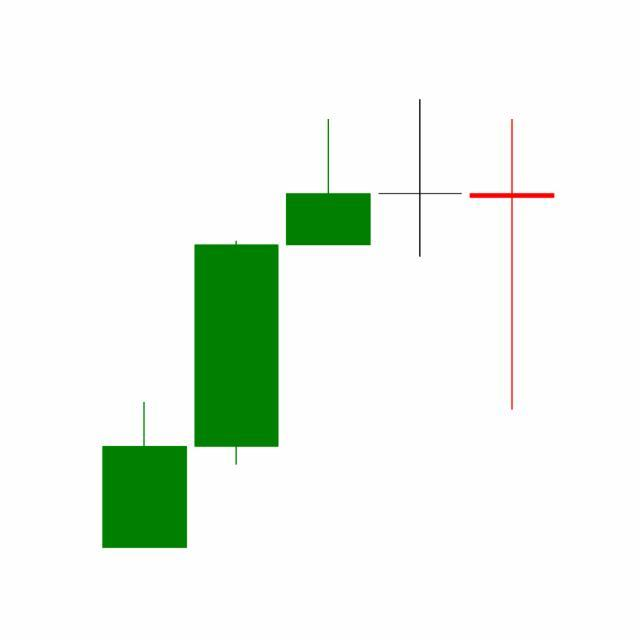Spinning Top: (374, 98, 468, 260)
